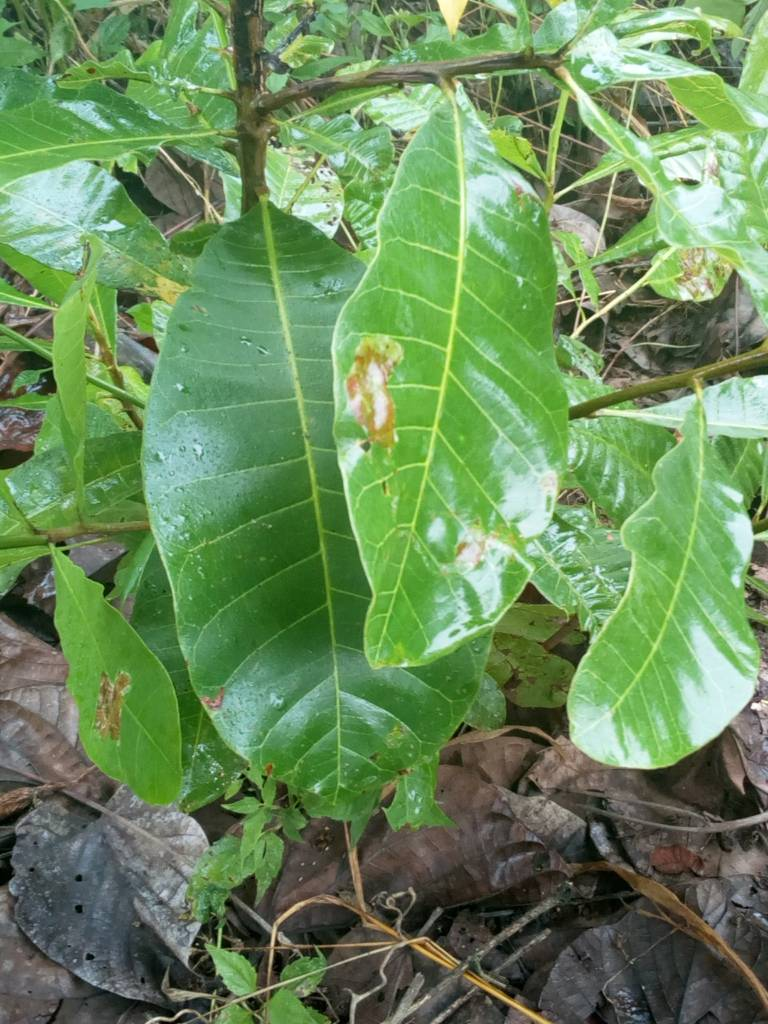Dysdercus wolkerii: (327, 83, 599, 677)
